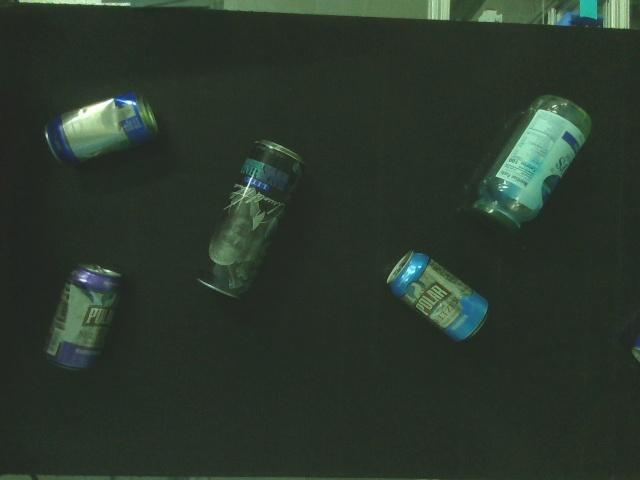metal: (194, 136, 308, 304), (381, 246, 495, 344), (37, 260, 126, 378), (42, 87, 163, 169)
plastic: (461, 92, 596, 240)
